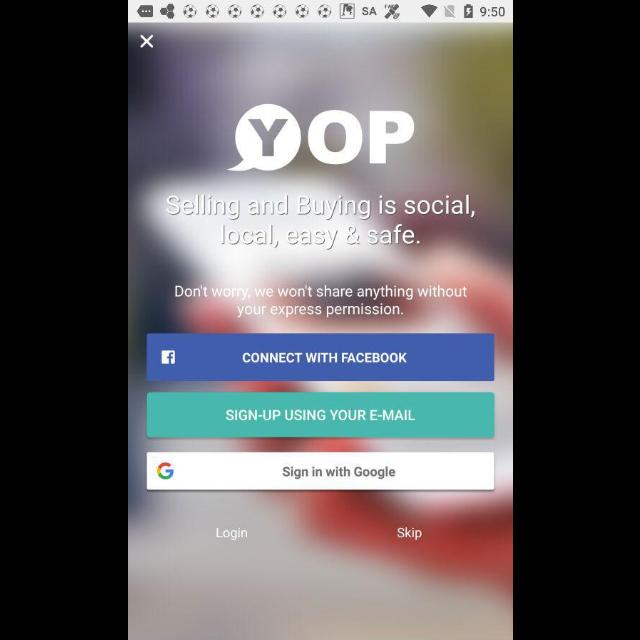backgroundimage: (128, 24, 512, 640)
icon: (139, 35, 153, 49)
image: (226, 105, 414, 172)
text: (166, 194, 474, 252), (174, 284, 466, 318), (216, 527, 248, 541), (396, 527, 422, 541)
textbutton: (146, 333, 494, 381), (146, 393, 494, 439), (146, 453, 494, 491)
uppertaskbar: (128, 1, 512, 23)
